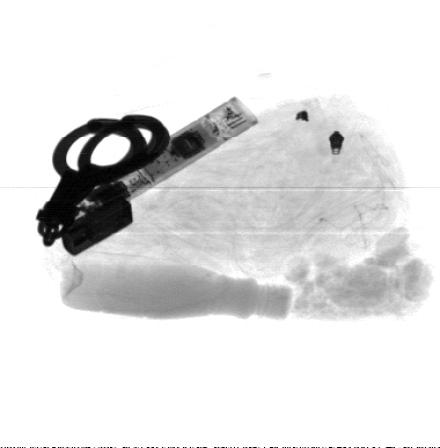Baton: (42, 95, 260, 239)
HandCuffs: (32, 114, 173, 247)
Lighter: (60, 195, 134, 255)
